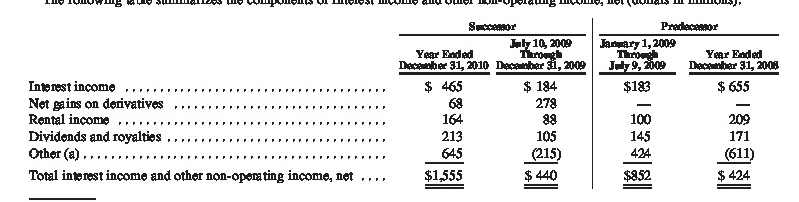table: (0, 0, 799, 202)
